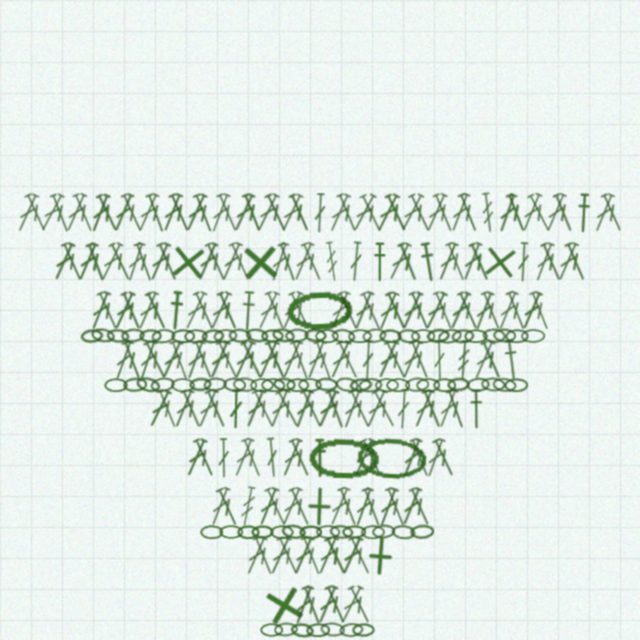chain: (356, 436, 427, 480), (308, 437, 379, 479), (286, 290, 354, 332), (135, 375, 161, 394), (437, 327, 463, 345), (90, 327, 116, 344), (281, 523, 306, 540), (150, 376, 175, 393), (271, 327, 296, 344), (362, 327, 387, 344), (335, 376, 359, 393), (245, 327, 269, 344), (339, 622, 364, 638), (329, 524, 354, 540), (391, 524, 416, 540), (358, 377, 383, 393), (492, 377, 517, 393), (151, 328, 176, 344), (213, 328, 238, 344), (331, 328, 356, 344), (290, 622, 314, 638), (349, 377, 373, 393), (80, 328, 104, 344), (106, 328, 130, 344), (201, 328, 225, 344), (397, 328, 421, 344), (451, 328, 475, 344), (320, 622, 345, 637), (274, 622, 298, 637), (410, 524, 434, 539), (123, 377, 147, 392), (203, 377, 227, 392), (233, 377, 257, 392), (405, 377, 429, 392), (466, 377, 490, 392), (481, 377, 505, 392), (121, 328, 145, 343), (228, 328, 252, 343), (285, 328, 309, 343), (426, 328, 450, 343), (482, 328, 506, 343), (372, 524, 395, 539), (189, 377, 212, 392), (223, 377, 246, 392), (273, 377, 296, 392), (315, 377, 338, 392), (447, 377, 470, 392), (304, 328, 327, 343), (493, 328, 516, 343), (306, 623, 330, 637), (219, 525, 243, 539), (270, 525, 294, 539), (316, 525, 340, 539), (342, 525, 366, 539), (361, 525, 385, 539), (104, 378, 128, 392), (171, 378, 195, 392), (250, 378, 274, 392), (261, 378, 285, 392), (298, 378, 322, 392), (375, 378, 399, 392), (386, 378, 410, 392), (416, 378, 440, 392), (504, 378, 528, 392), (171, 329, 195, 343), (184, 329, 208, 343), (315, 329, 339, 343), (348, 329, 372, 343), (411, 329, 435, 343), (464, 329, 488, 343), (505, 329, 529, 343), (521, 329, 545, 343), (260, 623, 283, 637), (352, 623, 375, 637), (200, 525, 223, 539), (237, 525, 260, 539), (251, 525, 274, 539), (299, 525, 322, 539), (286, 378, 309, 392), (433, 378, 456, 392), (139, 329, 162, 343), (261, 329, 284, 343), (379, 329, 402, 343)
double: (273, 388, 303, 429), (369, 388, 399, 429), (37, 192, 67, 233), (349, 192, 379, 233), (397, 192, 427, 233), (213, 486, 242, 528), (357, 290, 386, 332), (13, 192, 42, 234), (277, 192, 306, 234), (325, 192, 354, 234), (357, 192, 386, 234), (337, 584, 366, 625), (345, 584, 374, 625), (145, 388, 174, 429), (249, 388, 278, 429), (141, 339, 170, 380), (213, 339, 242, 380), (381, 339, 410, 380), (181, 290, 210, 331), (421, 290, 450, 331), (97, 241, 126, 282), (385, 241, 414, 282), (93, 192, 122, 233), (253, 192, 282, 233), (373, 192, 402, 233), (525, 192, 554, 233), (470, 339, 498, 381), (374, 290, 402, 332), (590, 192, 618, 234), (242, 535, 270, 576), (266, 535, 294, 576), (274, 535, 302, 576), (322, 535, 350, 576), (338, 535, 366, 576), (346, 535, 374, 576), (262, 486, 290, 527), (286, 486, 314, 527), (406, 486, 434, 527), (182, 437, 210, 478), (190, 437, 218, 478), (286, 437, 314, 478), (350, 437, 378, 478), (358, 437, 386, 478), (430, 437, 458, 478), (202, 388, 230, 429), (298, 388, 326, 429), (314, 388, 342, 429), (346, 388, 374, 429), (362, 388, 390, 429), (158, 339, 186, 380), (230, 339, 258, 380), (238, 339, 266, 380), (254, 339, 282, 380), (326, 339, 354, 380), (334, 339, 362, 380), (374, 339, 402, 380), (94, 290, 122, 331), (110, 290, 138, 331), (142, 290, 170, 331), (190, 290, 218, 331), (206, 290, 234, 331), (254, 290, 282, 331), (278, 290, 306, 331), (286, 290, 314, 331), (334, 290, 362, 331), (382, 290, 410, 331), (398, 290, 426, 331), (446, 290, 474, 331), (454, 290, 482, 331), (50, 241, 78, 282), (58, 241, 86, 282), (106, 241, 134, 282), (202, 241, 230, 282), (226, 241, 254, 282), (298, 241, 326, 282), (22, 192, 50, 233), (62, 192, 90, 233), (118, 192, 146, 233), (134, 192, 162, 233), (182, 192, 210, 233), (230, 192, 258, 233), (262, 192, 290, 233), (382, 192, 410, 233), (406, 192, 434, 233), (422, 192, 450, 233), (598, 192, 626, 233), (190, 192, 217, 234), (314, 584, 341, 625), (322, 584, 349, 625), (250, 535, 277, 576), (290, 535, 317, 576), (298, 535, 325, 576), (314, 535, 341, 576), (278, 486, 305, 527), (326, 486, 353, 527), (382, 486, 409, 527), (398, 486, 425, 527), (230, 437, 257, 478), (278, 437, 305, 478), (154, 388, 181, 429), (170, 388, 197, 429), (178, 388, 205, 429), (194, 388, 221, 429), (242, 388, 269, 429), (266, 388, 293, 429), (410, 388, 437, 429), (190, 339, 217, 380), (206, 339, 233, 380), (262, 339, 289, 380), (278, 339, 305, 380), (398, 339, 425, 380), (406, 339, 433, 380), (478, 339, 505, 380), (118, 290, 145, 331), (134, 290, 161, 331), (214, 290, 241, 331), (262, 290, 289, 331), (326, 290, 353, 331), (350, 290, 377, 331), (406, 290, 433, 331), (430, 290, 457, 331), (478, 290, 505, 331), (494, 290, 521, 331), (518, 290, 545, 331), (74, 241, 101, 282), (146, 241, 173, 282), (154, 241, 181, 282), (194, 241, 221, 282), (218, 241, 245, 282), (290, 241, 317, 282), (434, 241, 461, 282), (466, 241, 493, 282), (538, 241, 565, 282), (554, 241, 581, 282), (562, 241, 589, 282), (70, 192, 97, 233), (110, 192, 137, 233), (166, 192, 193, 233), (214, 192, 241, 233), (286, 192, 313, 233), (334, 192, 361, 233), (430, 192, 457, 233), (518, 192, 545, 233), (542, 192, 569, 233), (550, 192, 577, 233), (291, 584, 317, 626), (299, 584, 325, 626), (359, 486, 385, 528), (375, 486, 401, 528), (291, 388, 317, 430), (339, 388, 365, 430), (119, 339, 145, 381), (287, 339, 313, 381), (471, 290, 497, 332), (83, 241, 109, 283), (531, 241, 557, 283), (47, 192, 73, 234), (87, 192, 113, 234), (207, 192, 233, 234), (207, 486, 233, 527), (255, 486, 281, 527), (335, 486, 361, 527), (239, 437, 265, 478), (399, 437, 425, 478), (407, 437, 433, 478), (419, 388, 445, 429), (435, 388, 461, 429), (303, 339, 329, 380), (87, 290, 113, 331), (503, 290, 529, 331), (527, 290, 553, 331), (395, 241, 421, 282), (443, 241, 469, 282), (459, 241, 485, 282), (159, 192, 185, 233), (239, 192, 265, 233), (447, 192, 473, 233), (455, 192, 481, 233), (503, 192, 529, 233), (351, 486, 376, 528), (423, 437, 448, 479), (323, 388, 348, 430), (443, 388, 468, 430), (111, 339, 136, 381), (135, 339, 160, 381), (167, 339, 192, 381), (183, 339, 208, 381), (311, 339, 336, 381), (123, 241, 148, 283), (131, 241, 156, 283), (267, 241, 292, 283), (275, 241, 300, 283), (143, 192, 168, 234), (495, 192, 520, 234), (264, 437, 280, 478), (348, 241, 364, 282), (396, 389, 411, 429), (516, 242, 531, 282), (229, 389, 243, 429), (361, 340, 375, 380), (313, 193, 327, 233), (217, 438, 230, 478), (433, 340, 446, 380)
half_double: (417, 241, 439, 283), (502, 339, 521, 380), (167, 290, 185, 331), (239, 291, 257, 331), (575, 193, 592, 233), (468, 389, 484, 429), (312, 438, 327, 478), (372, 242, 387, 282)
single: (260, 581, 308, 629), (166, 240, 210, 284), (478, 240, 522, 284), (359, 535, 401, 577), (239, 241, 281, 283), (299, 486, 340, 527)
treble: (238, 486, 258, 527), (323, 241, 341, 282), (479, 192, 497, 233), (456, 340, 471, 380)
